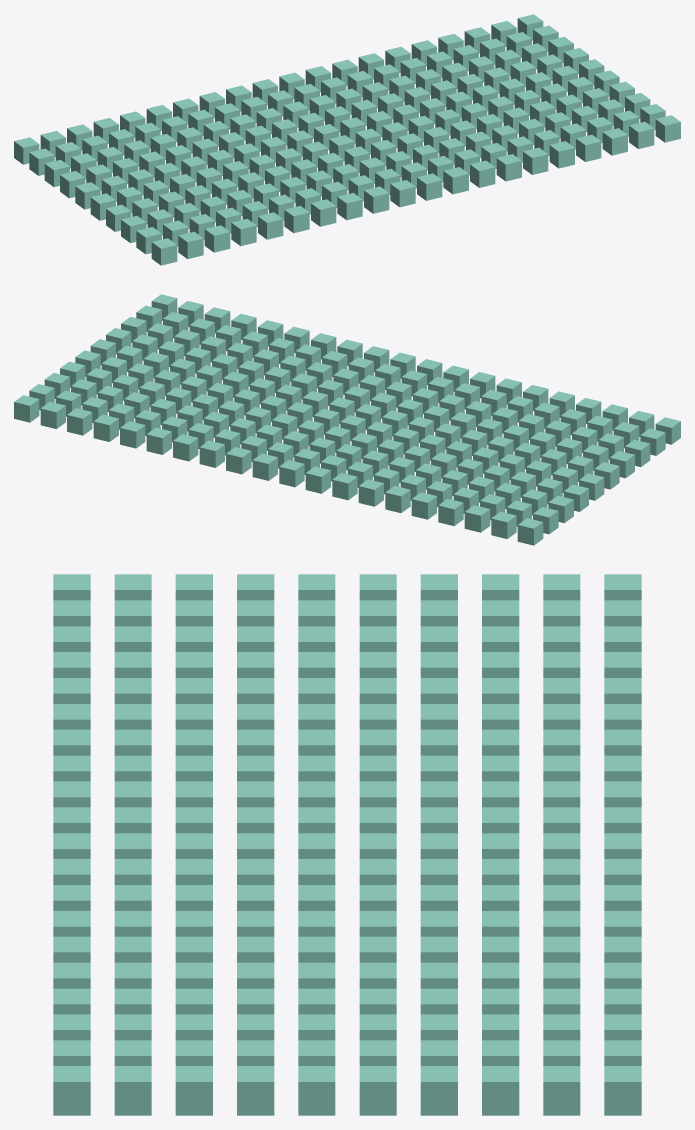
Rendered from reference.glb.
3 views of the same model, one above another, from view 1: azimuth 30°, elevation 25°; view 2: azimuth 150°, elevation 25°; view 3: azimuth 270°, elevation 25° (orthographic). The views are drawn at different scales.
Visible parts, largest first — view 1: grid-cube-182, grid-cube-180, grid-cube-184, grid-cube-195, grid-cube-181, grid-cube-187, grid-cube-190, grid-cube-185, grid-cube-188, grid-cube-192, grid-cube-193, grid-cube-198 (+188 smaller); view 2: grid-cube-2, grid-cube-0, grid-cube-4, grid-cube-15, grid-cube-1, grid-cube-7, grid-cube-10, grid-cube-5, grid-cube-8, grid-cube-12, grid-cube-13, grid-cube-18 (+188 smaller); view 3: grid-cube-19, grid-cube-39, grid-cube-59, grid-cube-79, grid-cube-99, grid-cube-119, grid-cube-139, grid-cube-159, grid-cube-179, grid-cube-199, grid-cube-0, grid-cube-1 (+188 smaller).
Boxes of the visible parts, x1,y1,x2,y2 form: grid-cube-182: [204, 225, 230, 252]; grid-cube-180: [151, 238, 177, 265]; grid-cube-184: [258, 212, 283, 239]; grid-cube-195: [549, 141, 574, 168]; grid-cube-181: [178, 231, 203, 258]; grid-cube-187: [337, 193, 362, 220]; grid-cube-190: [417, 173, 442, 200]; grid-cube-185: [284, 205, 309, 233]; grid-cube-188: [364, 186, 389, 213]; grid-cube-192: [470, 160, 495, 187]; grid-cube-193: [496, 154, 521, 181]; grid-cube-198: [629, 121, 654, 148]; grid-cube-2: [464, 505, 490, 532]; grid-cube-0: [517, 518, 543, 545]; grid-cube-4: [411, 492, 436, 519]; grid-cube-15: [120, 421, 145, 448]; grid-cube-1: [491, 511, 516, 538]; grid-cube-7: [332, 473, 357, 500]; grid-cube-10: [252, 453, 277, 480]; grid-cube-5: [385, 485, 410, 513]; grid-cube-8: [305, 466, 330, 493]; grid-cube-12: [199, 440, 224, 467]; grid-cube-13: [173, 434, 198, 461]; grid-cube-18: [40, 401, 65, 428]; grid-cube-19: [604, 1066, 641, 1115]; grid-cube-39: [543, 1066, 580, 1115]; grid-cube-59: [482, 1066, 519, 1115]; grid-cube-79: [420, 1066, 457, 1115]; grid-cube-99: [359, 1066, 396, 1115]; grid-cube-119: [298, 1066, 335, 1115]; grid-cube-139: [237, 1066, 274, 1115]; grid-cube-159: [175, 1066, 212, 1115]; grid-cube-179: [114, 1066, 151, 1115]; grid-cube-199: [53, 1066, 90, 1115]; grid-cube-0: [604, 574, 641, 600]; grid-cube-1: [604, 600, 641, 626].
Bounding box in the file's own units: 27.45 × 0.85 × 13.45.
